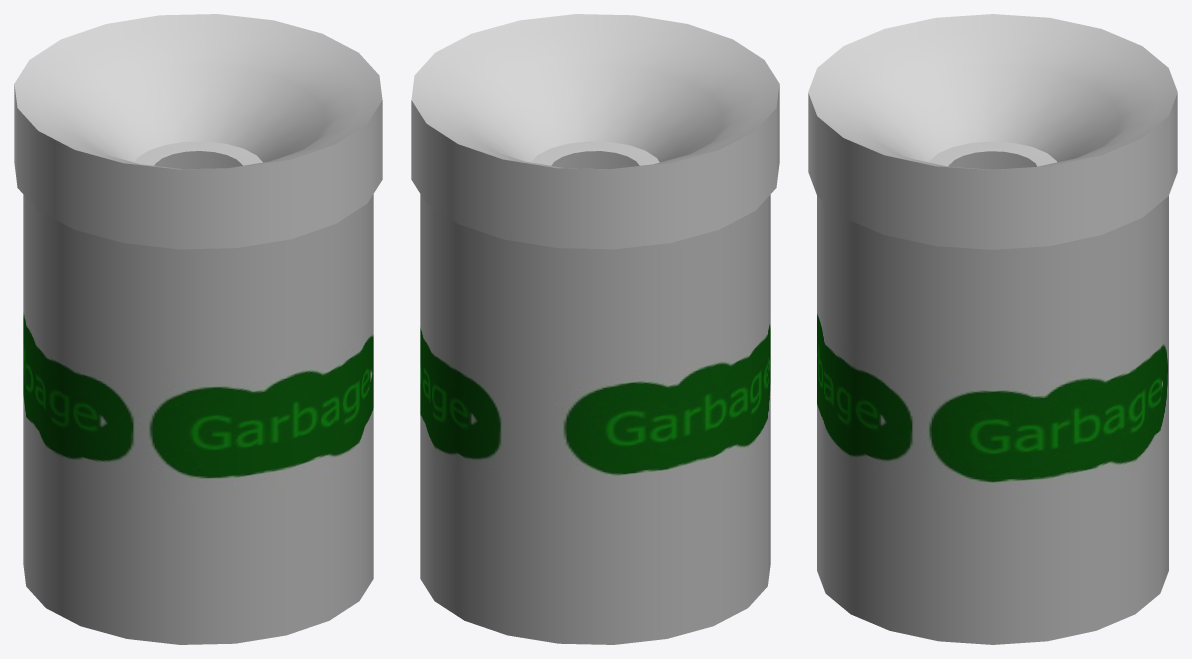
File: prullenbakbinnen.fbx
3 views of the same model, side by side, from view 1: azimuth 30°, elevation 25°; view 2: azimuth 150°, elevation 25°; view 3: azimuth 270°, elevation 25° (orthographic).
Parts seen in each view (by area): view 1: pCylinder3, pCylinder2; view 2: pCylinder3, pCylinder2; view 3: pCylinder3, pCylinder2.
Part boxes in pixels (left/top/right/bottom): pCylinder3: left=23, top=151, right=373, bottom=644; pCylinder2: left=14, top=14, right=382, bottom=249; pCylinder3: left=420, top=151, right=770, bottom=644; pCylinder2: left=411, top=14, right=779, bottom=249; pCylinder3: left=817, top=151, right=1168, bottom=644; pCylinder2: left=808, top=14, right=1177, bottom=249.
Size of the model in its own units: 4.2 by 6 by 4.2.
2 materials, 1 textured.
